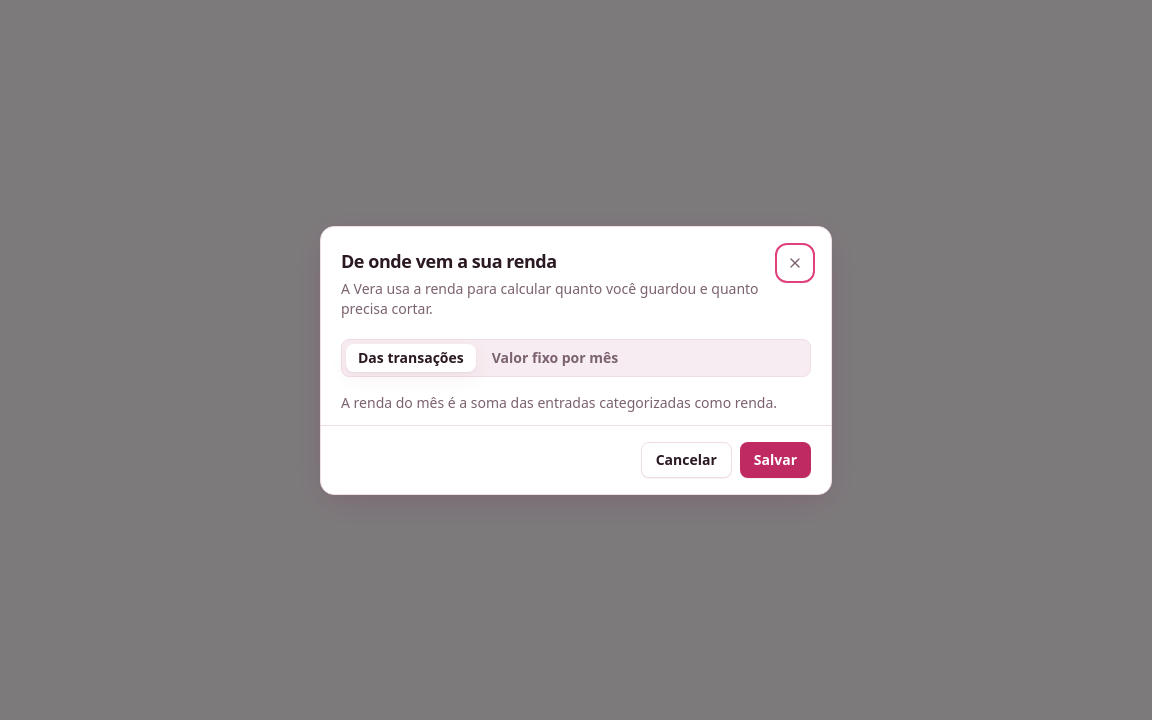
it: IncomeModeDialog › valor fixo exige um valor maior que zero
Expected: the element named "Origem da renda" is shown, [341,338,811,376]
Click the radio button labelled "Valor fixo por mês" at (555, 358), box [480,344,630,372]
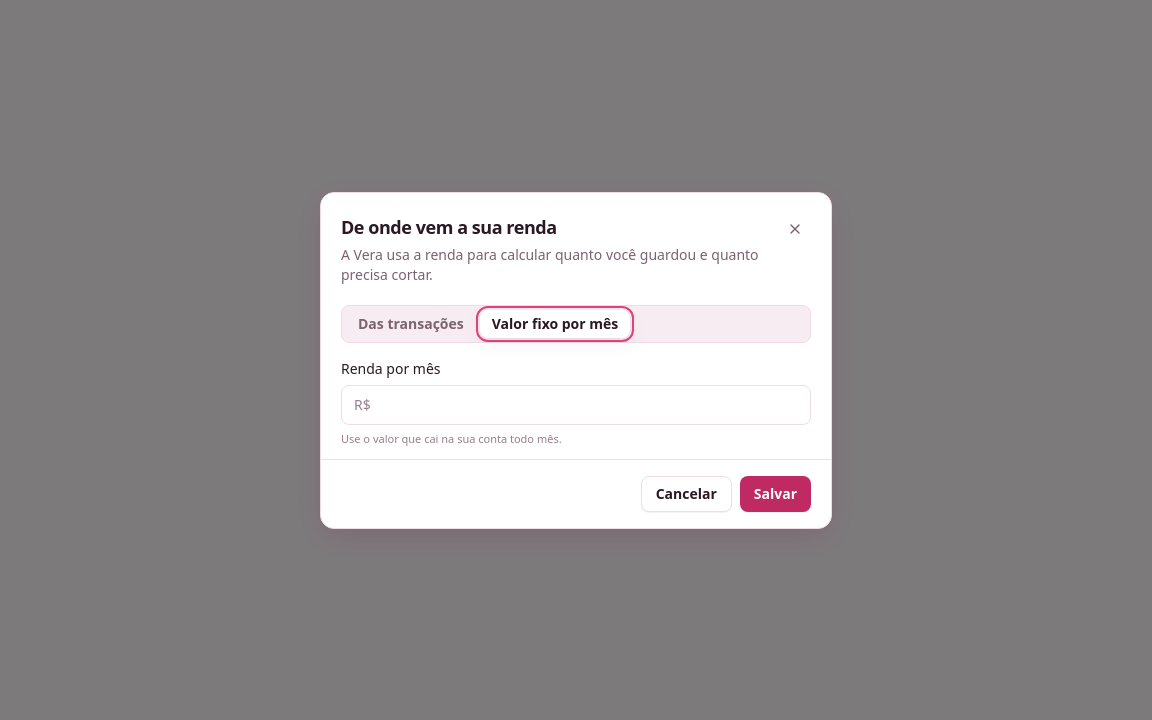
Click the button "Salvar" at (775, 494), box [740,476,811,512]
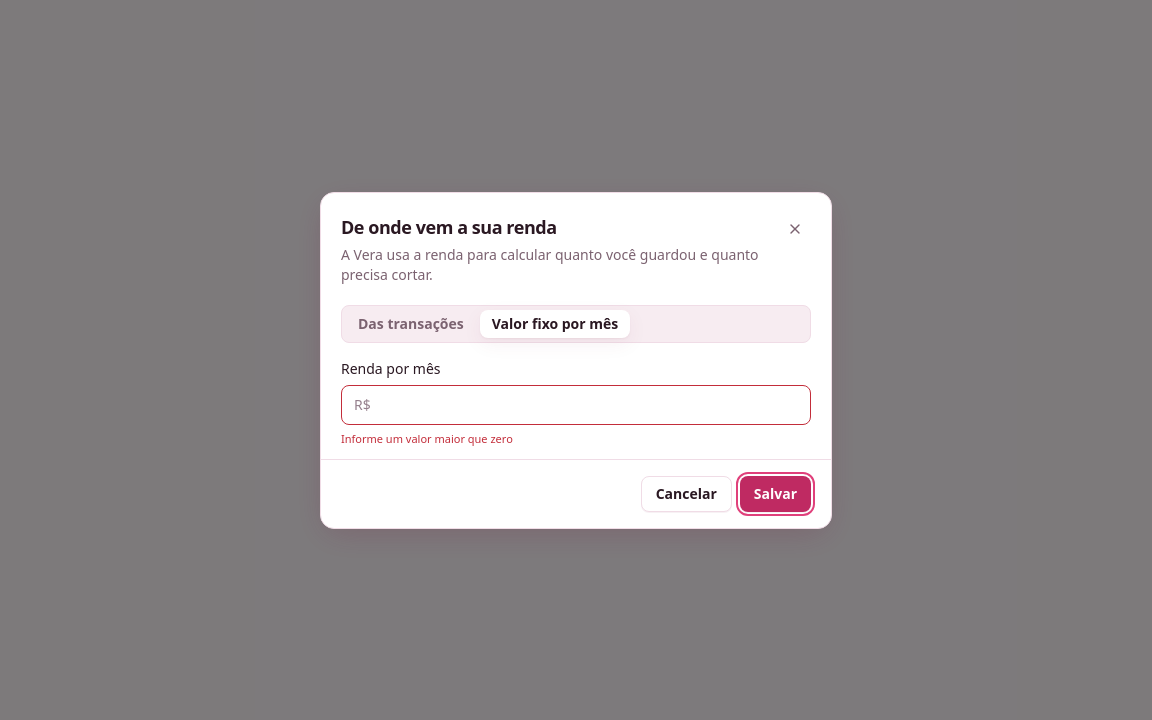
Result: the text "Informe um valor maior que zero" is shown at [341,430,513,446]
